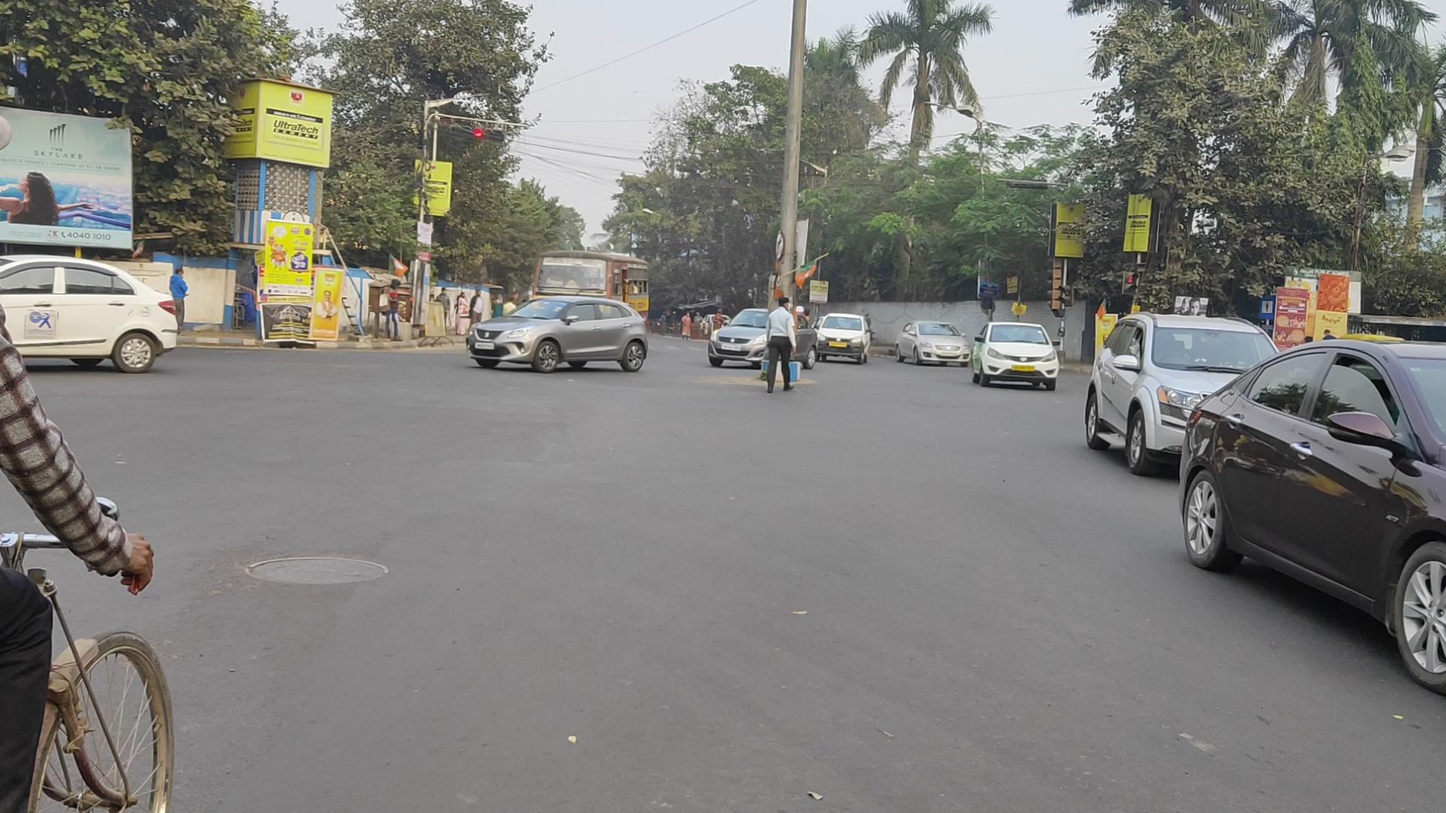Bus: (532, 250, 650, 346)
bike: (1084, 311, 1328, 477)
car: (1178, 340, 1446, 697), (1, 254, 179, 374), (465, 295, 649, 373), (708, 307, 818, 370), (970, 321, 1060, 392), (895, 320, 971, 368), (815, 312, 871, 366)
